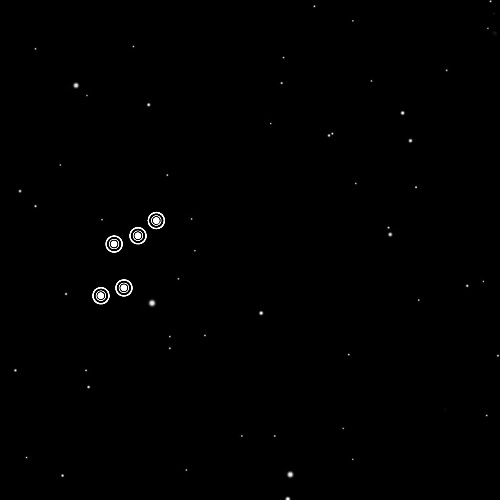lyra: (86, 202, 171, 311)
